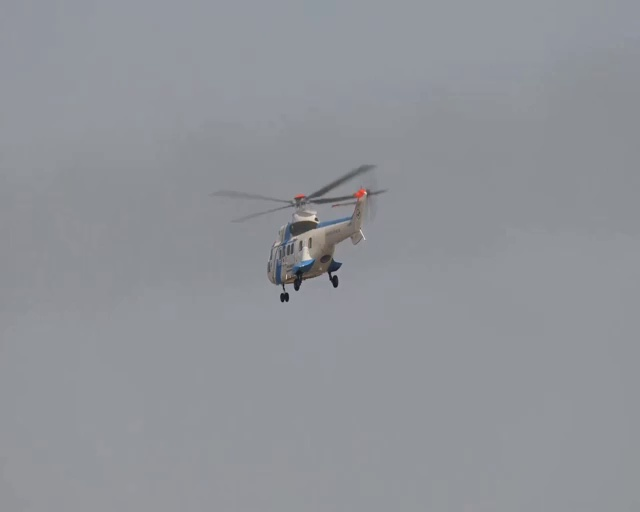HELICOPTER: (210, 161, 389, 304)
